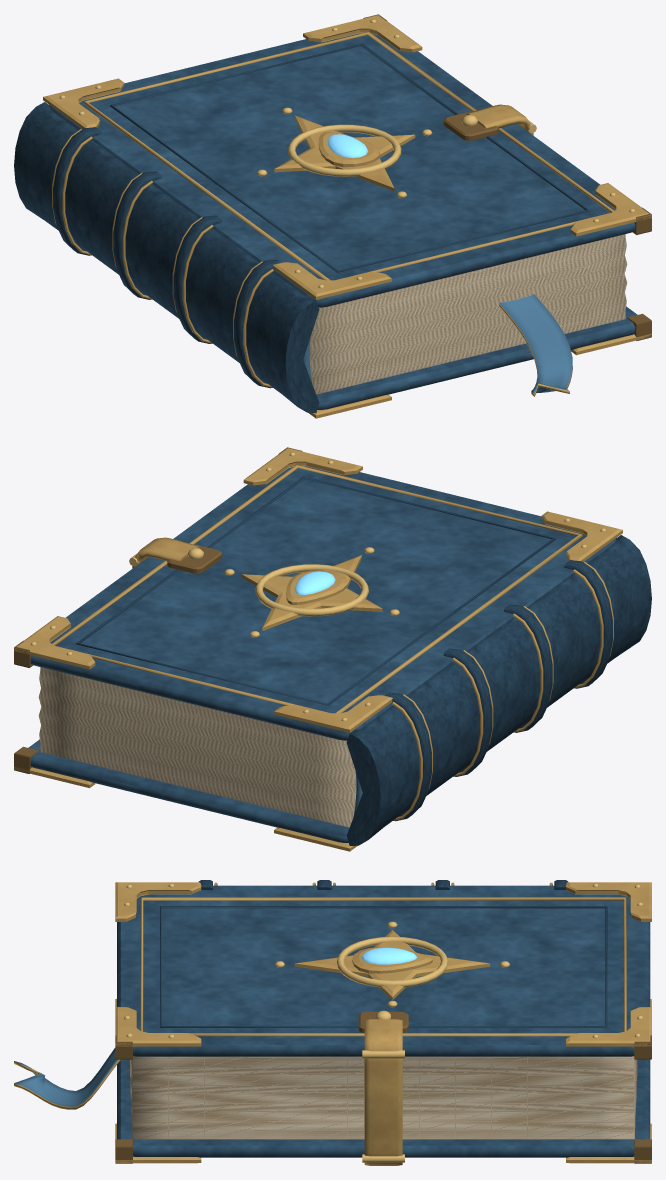
The model's file is book_sister_grimoire.glb.
3 views of the same model, one above another, from view 1: azimuth 30°, elevation 25°; view 2: azimuth 150°, elevation 25°; view 3: azimuth 270°, elevation 25° (orthographic).
Visible parts, largest first — view 1: book_sister_grimoire; view 2: book_sister_grimoire; view 3: book_sister_grimoire.
Boxes of the visible parts, x1,y1,x2,y2 form: book_sister_grimoire: (14, 14, 651, 418); book_sister_grimoire: (14, 447, 651, 851); book_sister_grimoire: (14, 880, 651, 1165).
Bounding box in the file's own units: 0.6486 × 0.228 × 0.96.
Materials: 9 (4 with a texture image).
